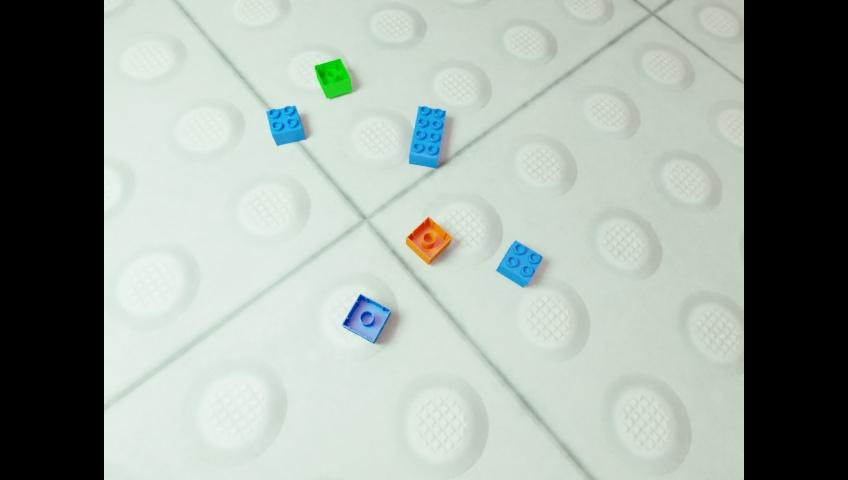2x2_blue: (341, 292, 390, 343), (496, 239, 542, 287), (265, 104, 305, 145)
2x2_green: (314, 58, 351, 98)
2x2_orange: (405, 215, 451, 264)
4x2_blue: (408, 105, 445, 168)
